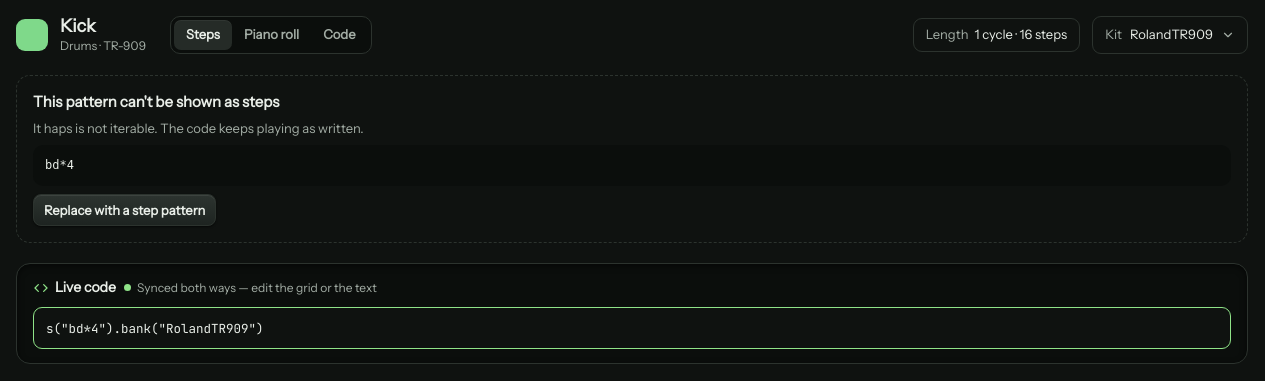
Scenario: StepSequencer › should show the track's generated code on the Code tab
Click the tab "Code".
click(339, 35)  # box top-left (311, 20), bottom-right (368, 50)
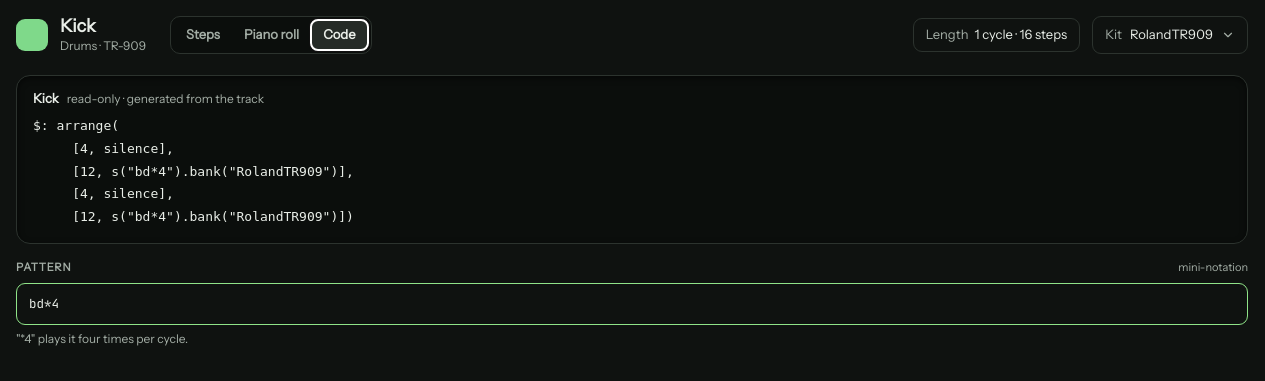
Expected: the text "s(\"bd*4\").bank(\"RolandTR909\")" is shown, top-left (33, 118), bottom-right (354, 224)
